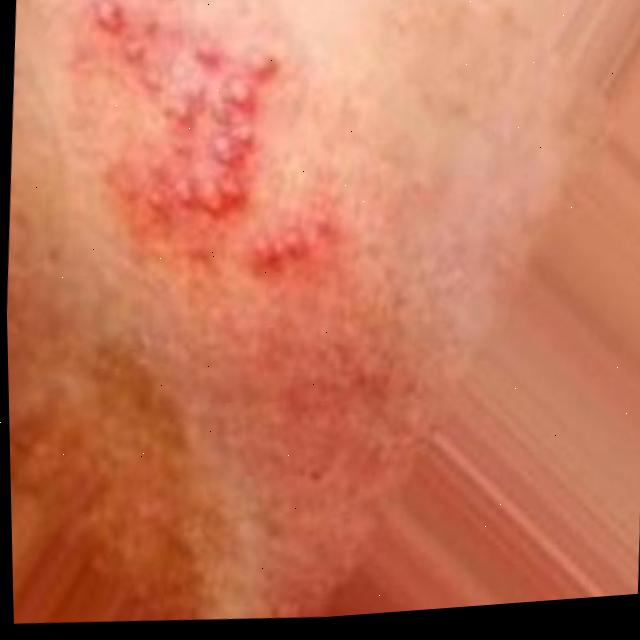Shingles: (73, 0, 338, 298)
